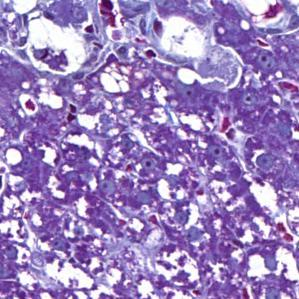ballooning: (15, 12, 92, 78)
